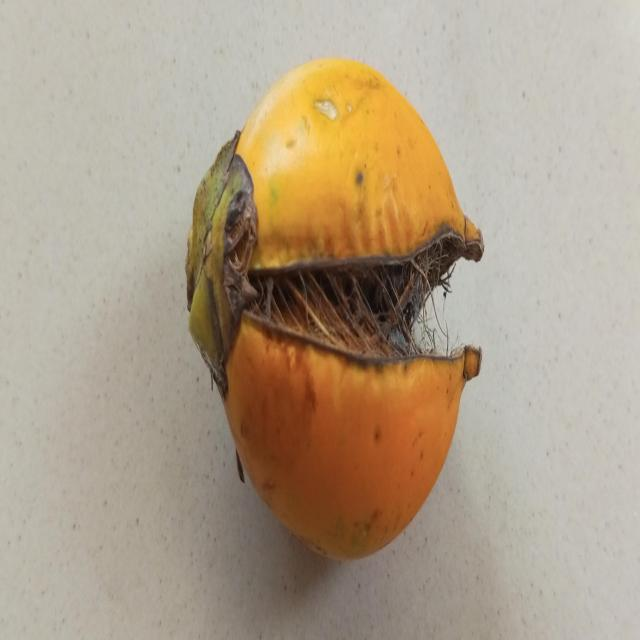damaged: (186, 59, 484, 559)
